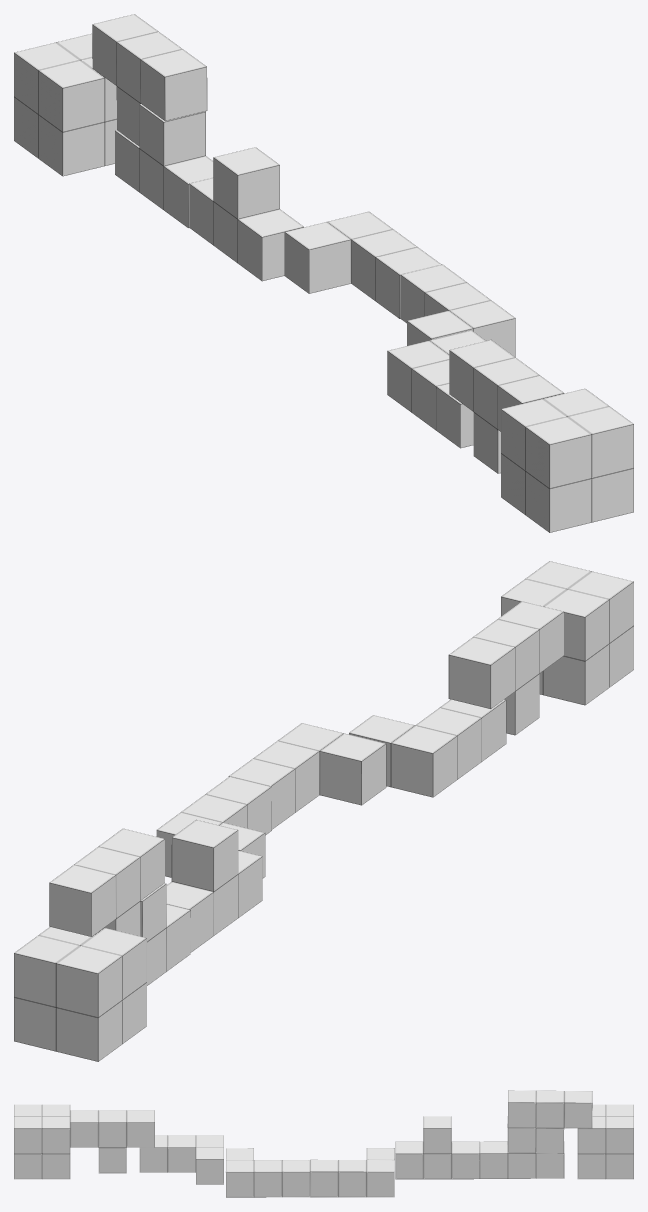
3 views of the same model, one above another, from view 1: azimuth 30°, elevation 25°; view 2: azimuth 150°, elevation 25°; view 3: azimuth 270°, elevation 25° (orthographic). The views are drawn at different scales.
Parts seen in each view (by area): view 1: Plane/BasicEnvironment/StartCube-1, Plane/BasicEnvironment/StartCube-2, GridTShape_0:1, GridLShape_0, GridTShape_0:3, GridTShape_0, GridTShape_0:2, GridLShape_0:1, GridLShape_0:2; view 2: Plane/BasicEnvironment/StartCube-2, Plane/BasicEnvironment/StartCube-1, GridTShape_0:2, GridLShape_0:1, GridLShape_0:2, GridTShape_0:3, GridTShape_0:1, GridLShape_0, GridTShape_0; view 3: Plane/BasicEnvironment/StartCube-1, GridTShape_0:1, GridTShape_0:2, Plane/BasicEnvironment/StartCube-2, GridTShape_0:3, GridLShape_0, GridLShape_0:1, GridLShape_0:2, GridTShape_0.
Boxes of the visible parts, bbox=[...] form: Plane/BasicEnvironment/StartCube-1: bbox=[501, 388, 633, 532]; Plane/BasicEnvironment/StartCube-2: bbox=[14, 33, 116, 176]; GridTShape_0:1: bbox=[189, 147, 303, 281]; GridLShape_0: bbox=[284, 211, 441, 318]; GridTShape_0:3: bbox=[92, 14, 207, 145]; GridTShape_0: bbox=[115, 104, 213, 227]; GridTShape_0:2: bbox=[449, 339, 564, 473]; GridLShape_0:1: bbox=[400, 264, 515, 356]; GridLShape_0:2: bbox=[387, 330, 485, 448]; Plane/BasicEnvironment/StartCube-2: bbox=[14, 927, 146, 1061]; Plane/BasicEnvironment/StartCube-1: bbox=[501, 561, 633, 705]; GridTShape_0:2: bbox=[448, 601, 563, 735]; GridLShape_0:1: bbox=[228, 723, 386, 829]; GridLShape_0:2: bbox=[349, 699, 506, 797]; GridTShape_0:3: bbox=[49, 828, 164, 936]; GridTShape_0:1: bbox=[166, 819, 262, 952]; GridLShape_0: bbox=[156, 776, 271, 878]; GridTShape_0: bbox=[140, 883, 190, 985]; Plane/BasicEnvironment/StartCube-1: bbox=[14, 1104, 70, 1179]; GridTShape_0:1: bbox=[395, 1116, 479, 1179]; GridTShape_0:2: bbox=[70, 1110, 154, 1173]; Plane/BasicEnvironment/StartCube-2: bbox=[577, 1104, 633, 1179]; GridTShape_0:3: bbox=[507, 1090, 592, 1153]; GridLShape_0: bbox=[310, 1148, 394, 1197]; GridLShape_0:1: bbox=[226, 1148, 310, 1197]; GridLShape_0:2: bbox=[139, 1135, 223, 1184]; GridTShape_0: bbox=[479, 1116, 564, 1178].
Size of the model in its own units: 0.3537 by 0.3021 by 2.2.
